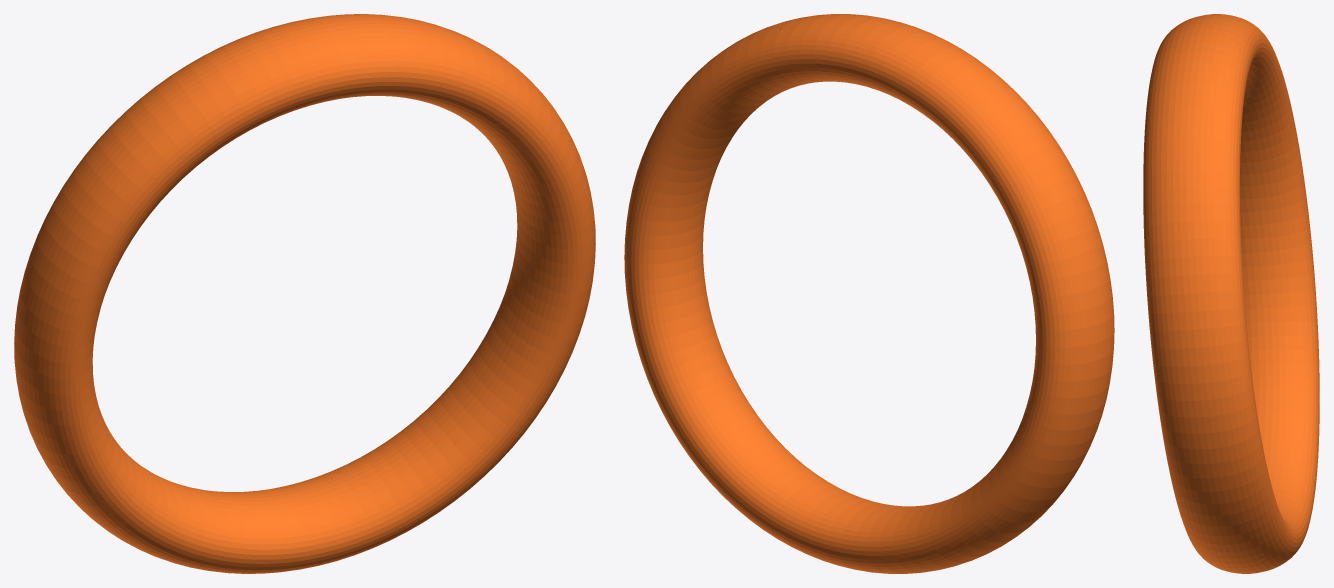
The model's file is Ring.fbx.
3 renders of one model, left to right at view 1: azimuth 30°, elevation 25°; view 2: azimuth 150°, elevation 25°; view 3: azimuth 270°, elevation 25°, orthographic. The views are drawn at different scales.
Parts seen in each view (by area): view 1: node_id29; view 2: node_id29; view 3: node_id29.
Part boxes in pixels (left/top/right/bottom): node_id29: left=14, top=14, right=595, bottom=573; node_id29: left=624, top=14, right=1114, bottom=573; node_id29: left=1143, top=14, right=1319, bottom=573.
Bounding box in the file's own units: 0.51 × 0.5089 × 0.1611.
Materials: 1 (1 with a texture image).
